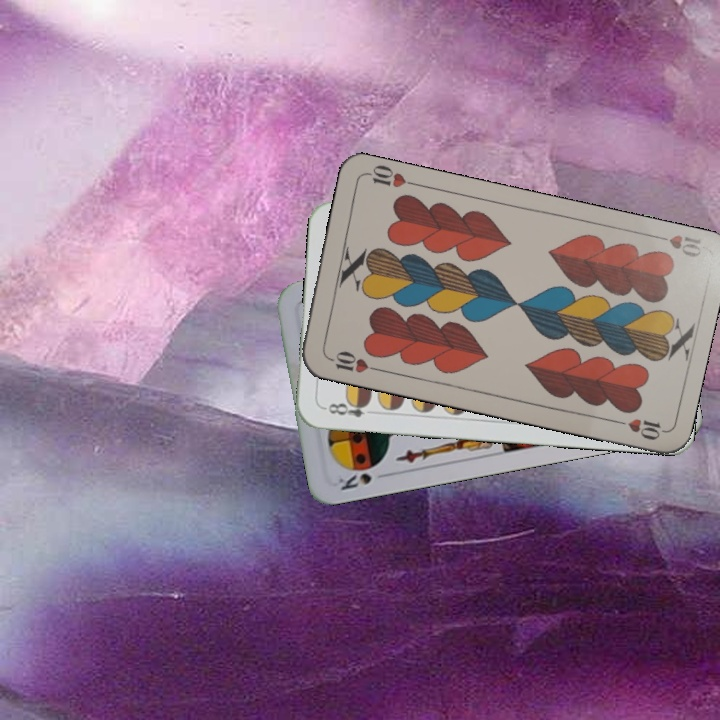E8: (320, 396, 372, 420)
H10: (647, 228, 704, 260), (323, 347, 382, 376)
SK: (334, 469, 375, 493)
